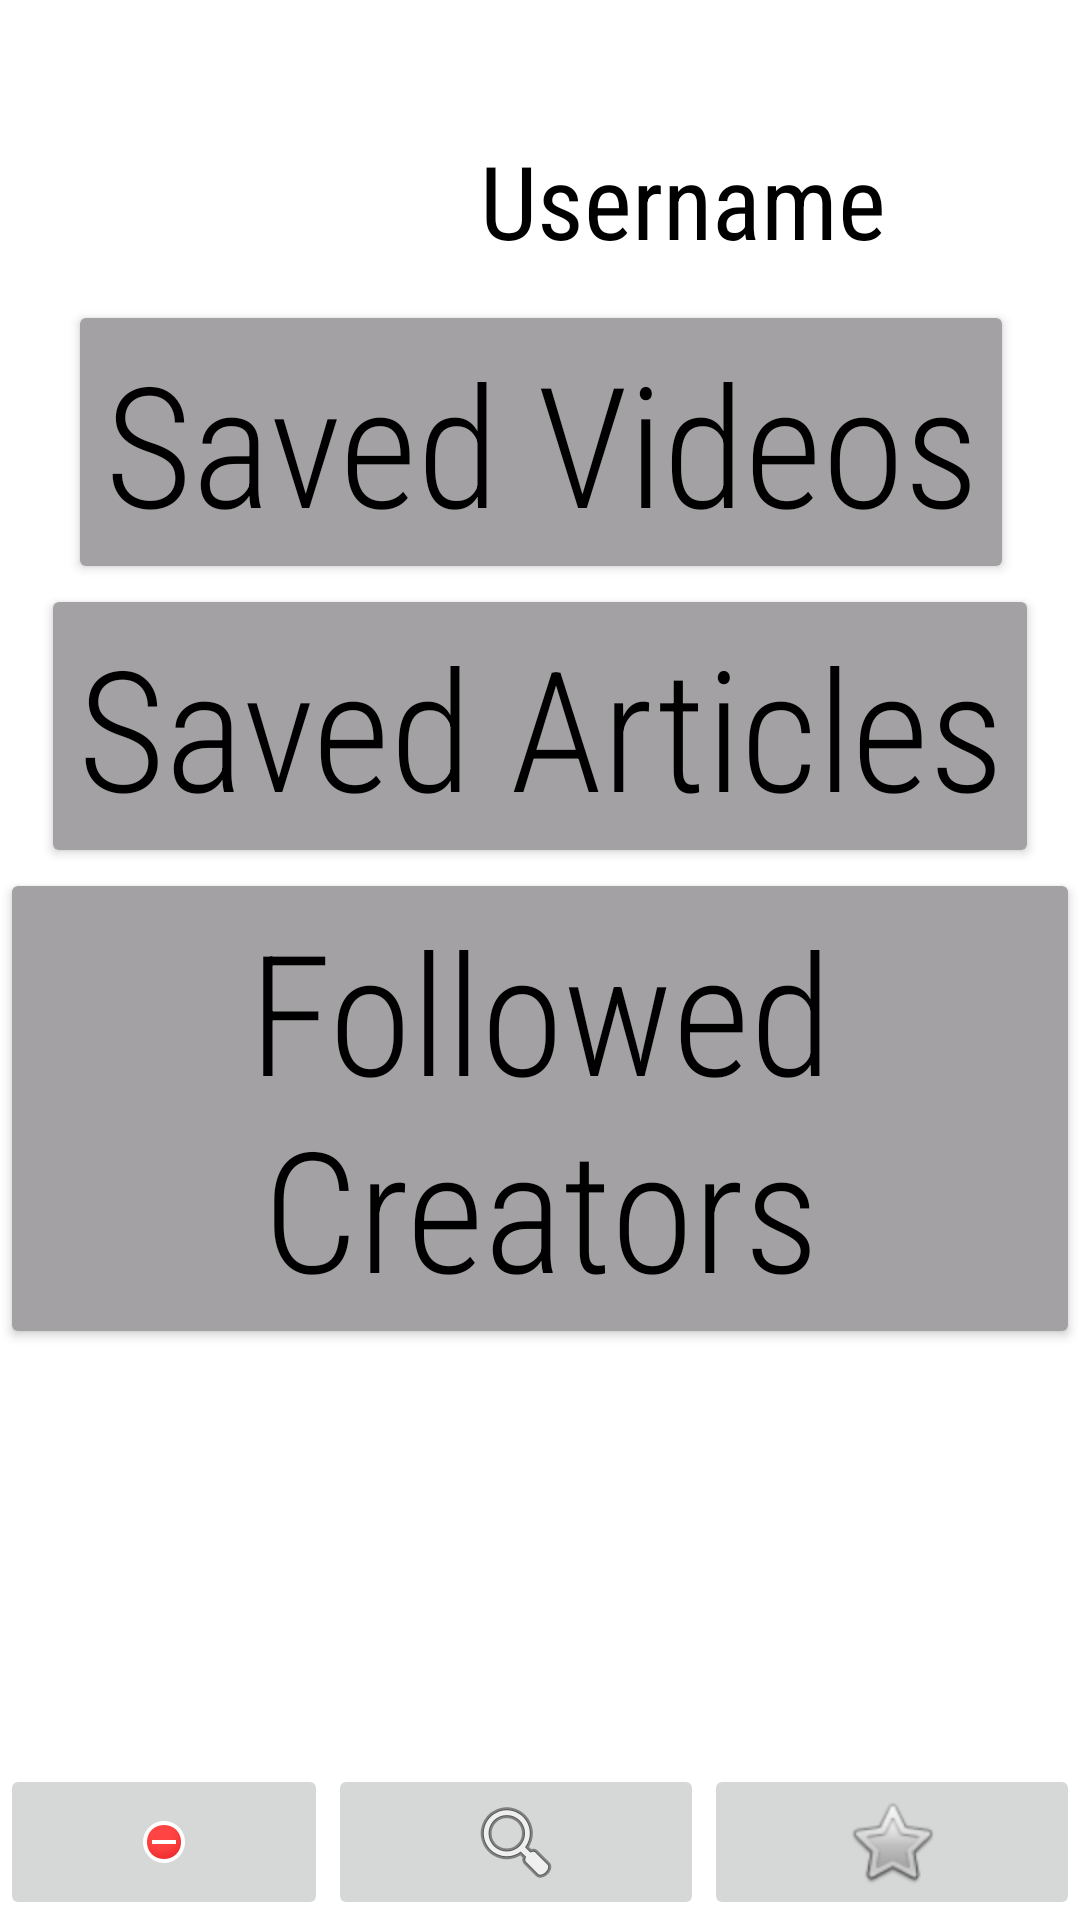

Named icons in this screenshot (1080x1920) and their bounding boxes, (x1, y1, x2, y2):
presence busy: (12, 1782, 316, 1902)
search: (340, 1782, 692, 1902)
star: (716, 1782, 1068, 1902)
